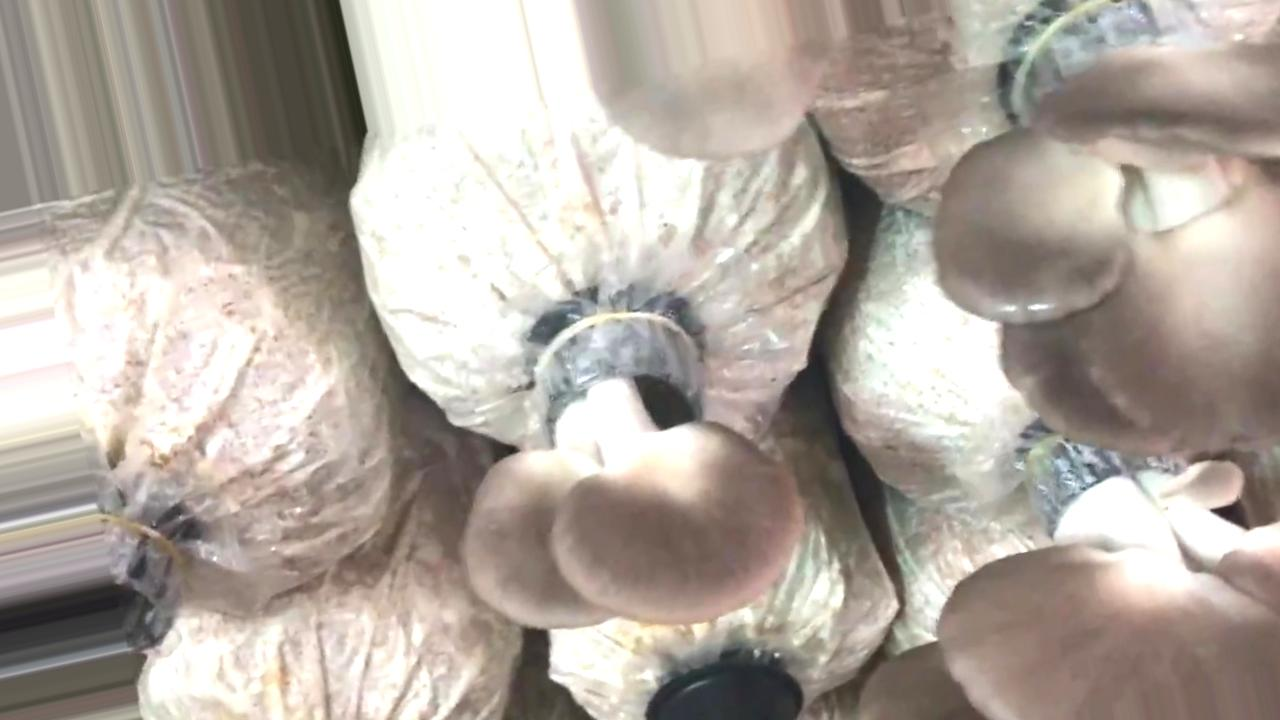nam: (931, 3, 1280, 459), (857, 421, 1280, 719), (466, 298, 802, 630), (578, 1, 850, 162)
